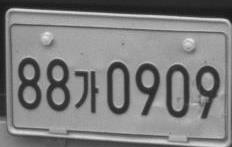0: (165, 63, 191, 118), (106, 60, 131, 115)
8: (45, 58, 71, 112), (17, 56, 42, 110)
9: (195, 64, 221, 119), (135, 62, 160, 116)
가: (73, 70, 99, 113)
